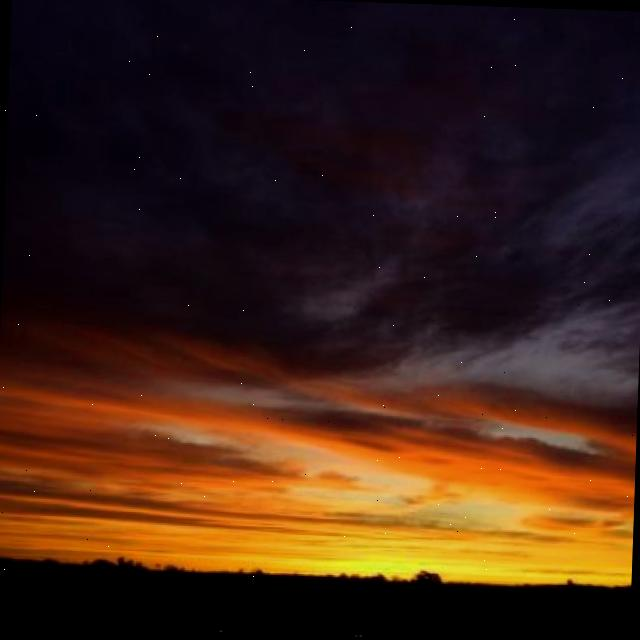As: (1, 98, 640, 544)
